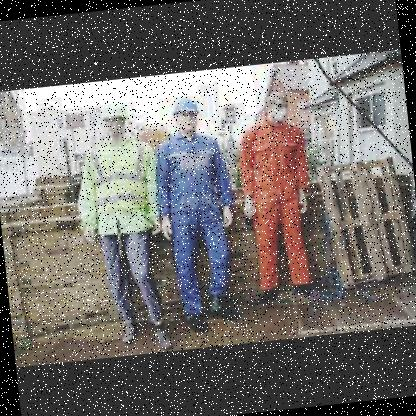Mannequin: (66, 100, 176, 356), (148, 95, 244, 332), (232, 87, 318, 303)
